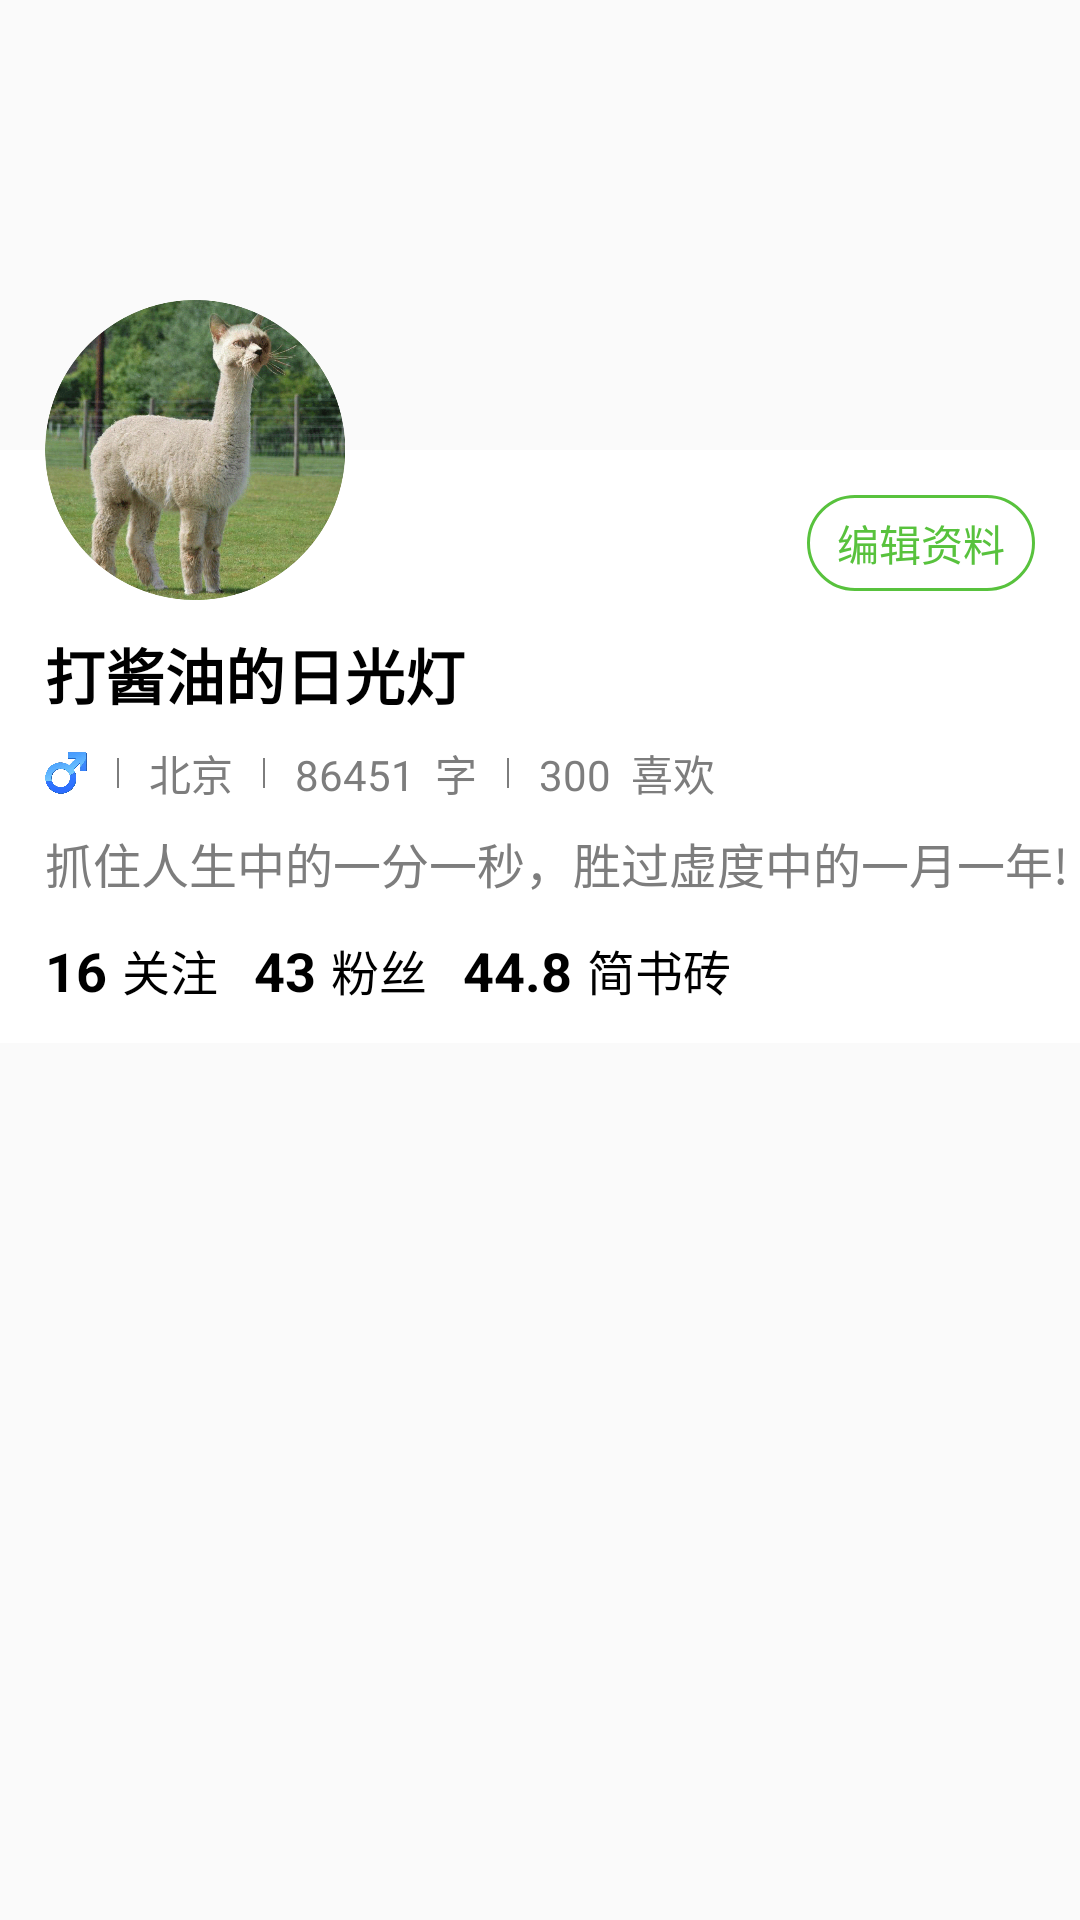

Icons on this 1080 × 1920 Android screen, each with its box as (x1, y1, x2, y2):
man: (45, 752, 87, 794)
user photo: (45, 300, 345, 600)
